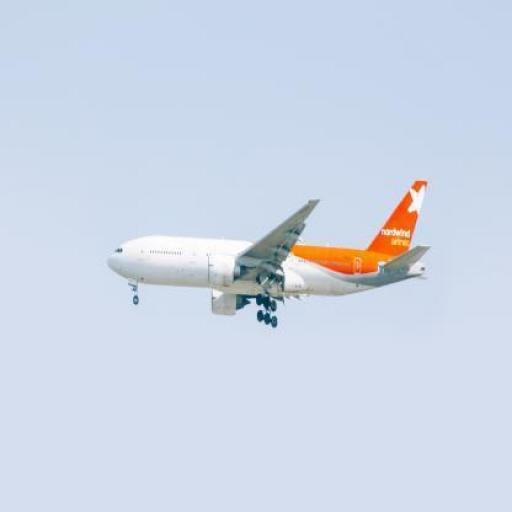aircraft: (103, 181, 430, 327)
